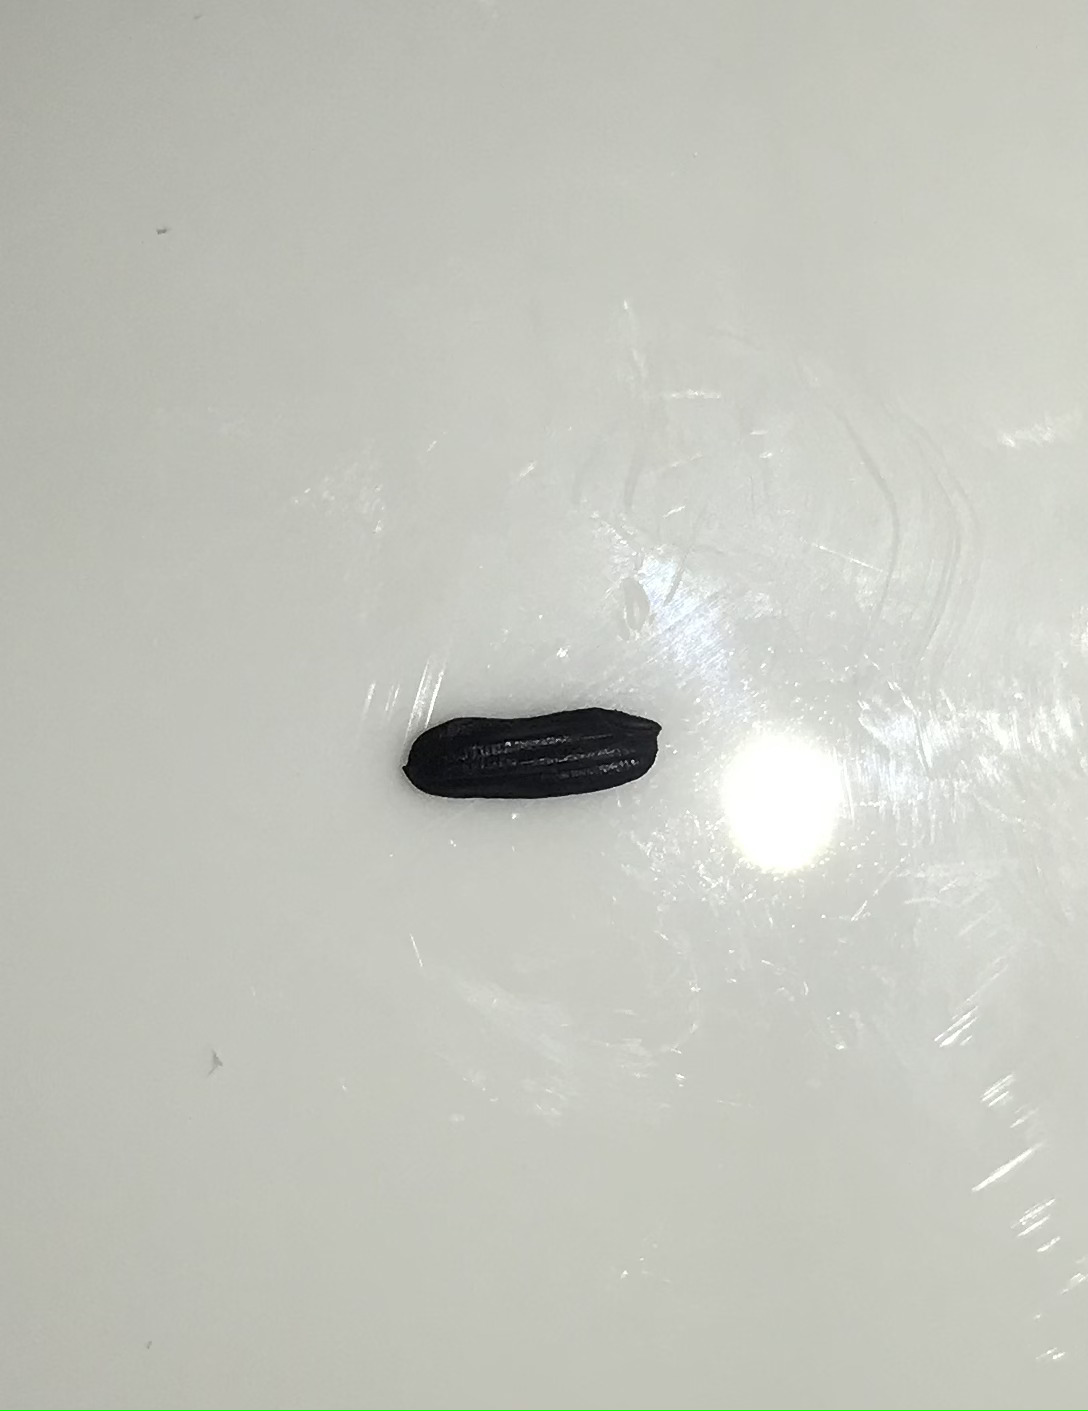Gao lut: (395, 708, 667, 800)
